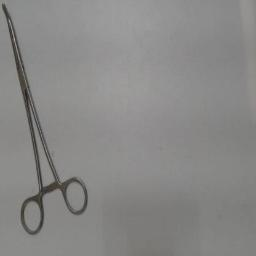Lahey Forceps: (0, 0, 92, 238)
